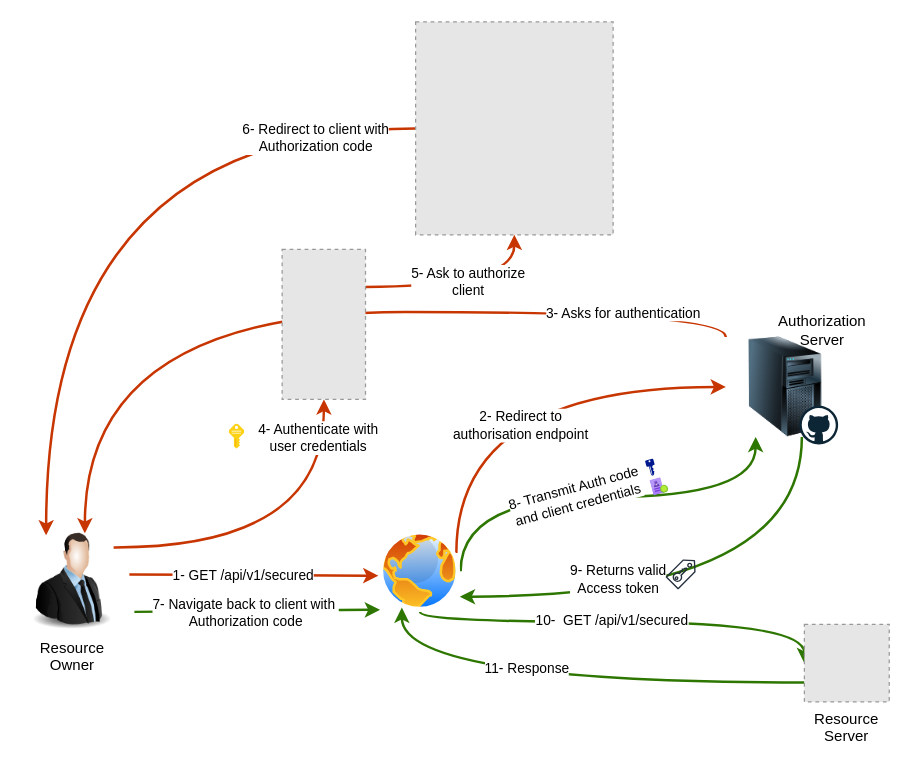
This 911x768 diagram has some shape labels left out. Grey dashed boxes stand in for pictures. Each missing label, with the centre of its shape:
"Client" goes at point 419,570.
"GitHub" goes at point 818,424.
